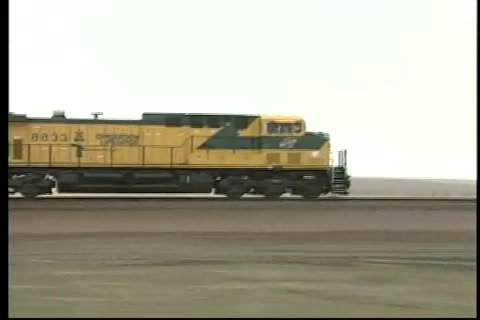train: (11, 111, 352, 199)
